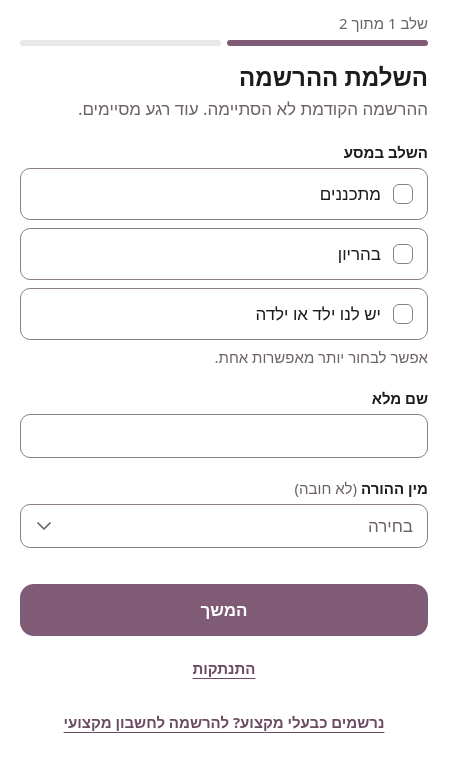
Test: [F1.5 c16][FR-REG-004] the completion screen › [c16] the consent-only step: only the checkbox, "יצירת חשבון", no email or password field; unticked submit sends nothing and focuses the checkbox
Check: the heading "השלמת ההרשמה" is shown, box [239, 60, 428, 93]
Click the checkbox labelled "מתכננים".
click(350, 194)  # box [20, 168, 428, 220]
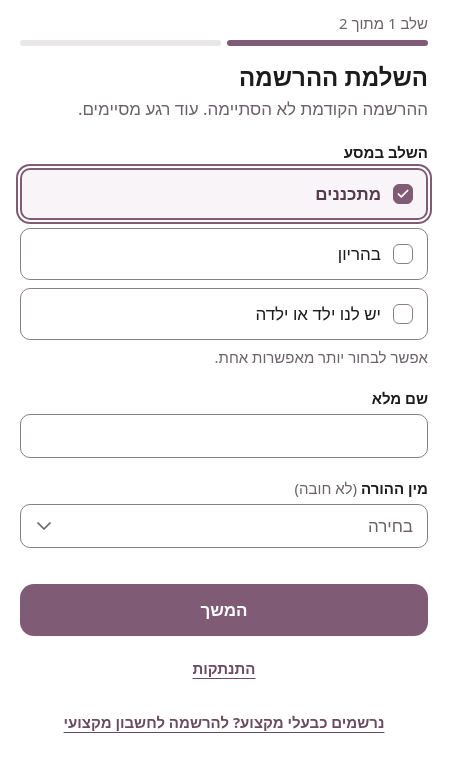
Type "דנה כהן" into the field labelled "שם מלא".
click(224, 436); type("דנה כהן")  # box [20, 414, 428, 458]
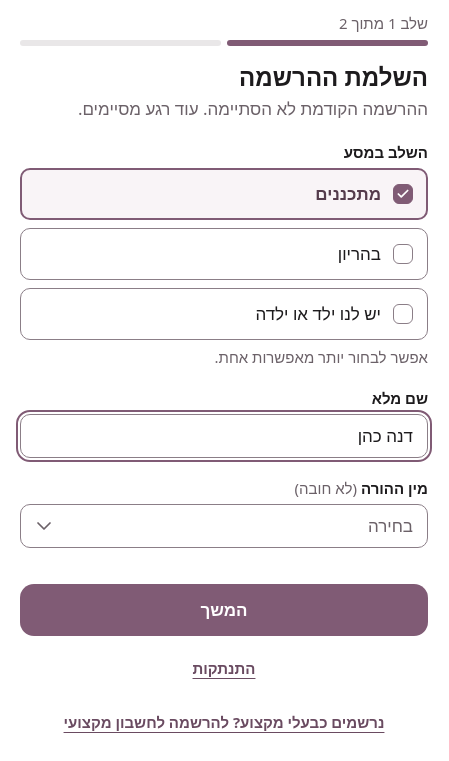
Click the button "המשך".
click(224, 610)  # box [20, 584, 428, 636]
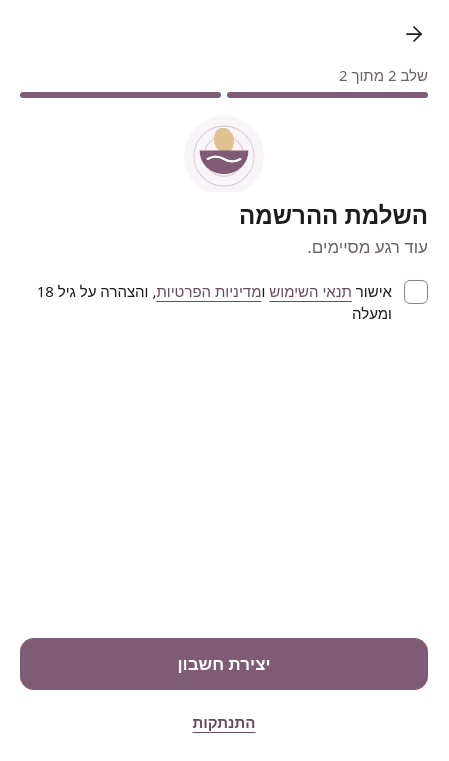
Check: the heading reads "השלמת ההרשמה", box [239, 198, 428, 231]
Check: the checkbox named "אישור תנאי השימוש ומדיניות הפרטיות, והצהרה על גיל 18 ומעלה" is shown, box [404, 280, 428, 304]
Check: the button "התנתקות" is shown, box [188, 700, 259, 744]
Click the button "יצירת חשבון".
click(224, 664)  # box [20, 638, 428, 690]
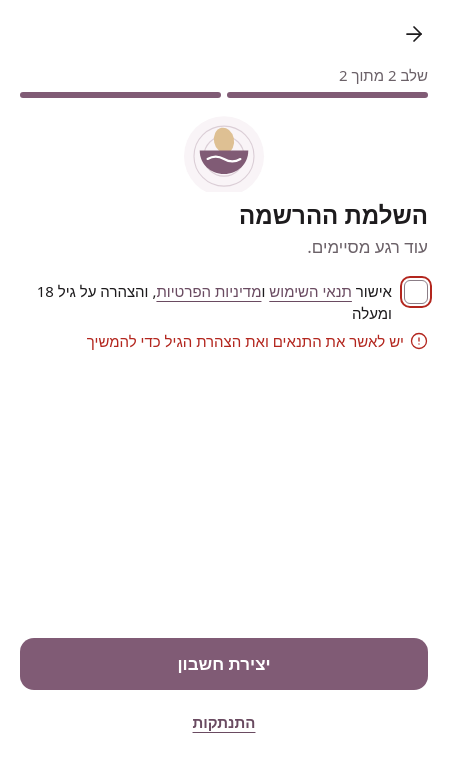
Check: the text "יש לאשר את התנאים ואת הצהרת הגיל כדי להמשיך" is shown, box [87, 330, 404, 352]
